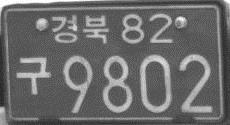0: (138, 52, 173, 114)
2: (177, 52, 215, 115), (147, 12, 174, 45)
8: (102, 54, 134, 113), (120, 11, 145, 45)
9: (61, 54, 95, 115)
경북_O: (50, 13, 109, 44)
구: (14, 55, 52, 95)
